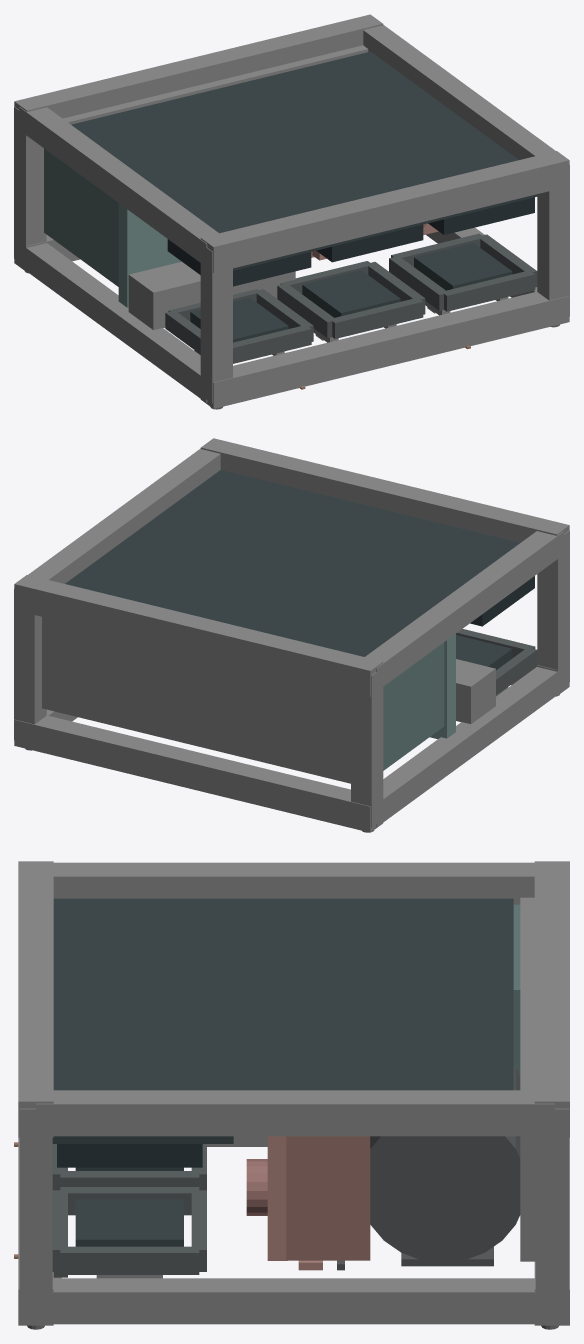
The model's file is Gerador_UniDoom_0_fusiveis.glb.
3 views of the same model, one above another, from view 1: azimuth 30°, elevation 25°; view 2: azimuth 150°, elevation 25°; view 3: azimuth 270°, elevation 25° (orthographic). The views are drawn at different scales.
Parts seen in each view (by area): view 1: back_wall, top_long_beam_back, top_long_beam_front, bottom_long_beam_back, steel_upright_left_back, steel_upright_left_front, engine_lower_base, steel_upright_right_back, control_console_outer, top_depth_beam_left, top_depth_beam_right, bottom_depth_beam_left (+21 smaller); view 2: back_wall, base_floor, bottom_long_beam_back, bottom_long_beam_front, top_long_beam_back, steel_upright_left_back, steel_upright_left_front, steel_upright_right_back, engine_lower_base, bottom_depth_beam_left, top_depth_beam_left, bottom_depth_beam_right (+6 smaller); view 3: back_wall, steel_upright_right_back, steel_upright_right_front, steel_upright_left_back, motor_rotor, tank_bottom, top_long_beam_back, bottom_long_beam_back, top_depth_beam_right, bottom_depth_beam_right, socket_3_inner_rear, base_floor (+11 smaller).
Part boxes in pixels (<box>): back_wall: <box>71,51,518,233</box>; top_long_beam_back: <box>200,151,569,272</box>; top_long_beam_front: <box>200,291,569,408</box>; bottom_long_beam_back: <box>14,14,383,136</box>; steel_upright_left_back: <box>19,107,218,266</box>; steel_upright_left_front: <box>19,243,207,402</box>; engine_lower_base: <box>44,148,118,286</box>; steel_upright_right_back: <box>363,25,555,159</box>; control_console_outer: <box>128,261,295,330</box>; top_depth_beam_left: <box>200,247,232,403</box>; top_depth_beam_right: <box>537,165,569,316</box>; bottom_depth_beam_left: <box>14,106,46,261</box>; back_wall: <box>65,470,519,656</box>; base_floor: <box>42,617,350,783</box>; bottom_long_beam_back: <box>14,575,383,696</box>; bottom_long_beam_front: <box>14,715,382,832</box>; top_long_beam_back: <box>200,438,569,560</box>; steel_upright_left_back: <box>365,531,563,686</box>; steel_upright_left_front: <box>376,667,563,827</box>; steel_upright_right_back: <box>28,448,220,583</box>; engine_lower_base: <box>383,642,444,770</box>; bottom_depth_beam_left: <box>351,667,383,827</box>; top_depth_beam_left: <box>537,530,569,690</box>; bottom_depth_beam_right: <box>14,589,46,739</box>; back_wall: <box>53,898,513,1090</box>; steel_upright_right_back: <box>36,1090,554,1136</box>; steel_upright_right_front: <box>36,1278,554,1324</box>; steel_upright_left_back: <box>53,862,534,904</box>; motor_rotor: <box>370,1065,520,1262</box>; tank_bottom: <box>286,1136,370,1260</box>; top_long_beam_back: <box>18,861,53,1137</box>; bottom_long_beam_back: <box>534,861,569,1137</box>; top_depth_beam_right: <box>19,1108,52,1319</box>; bottom_depth_beam_right: <box>535,1108,568,1319</box>; socket_3_inner_rear: <box>75,1199,183,1246</box>; base_floor: <box>520,897,535,1261</box>.
Bounding box in the file's own units: 2.59 × 1.16 × 2.52.
